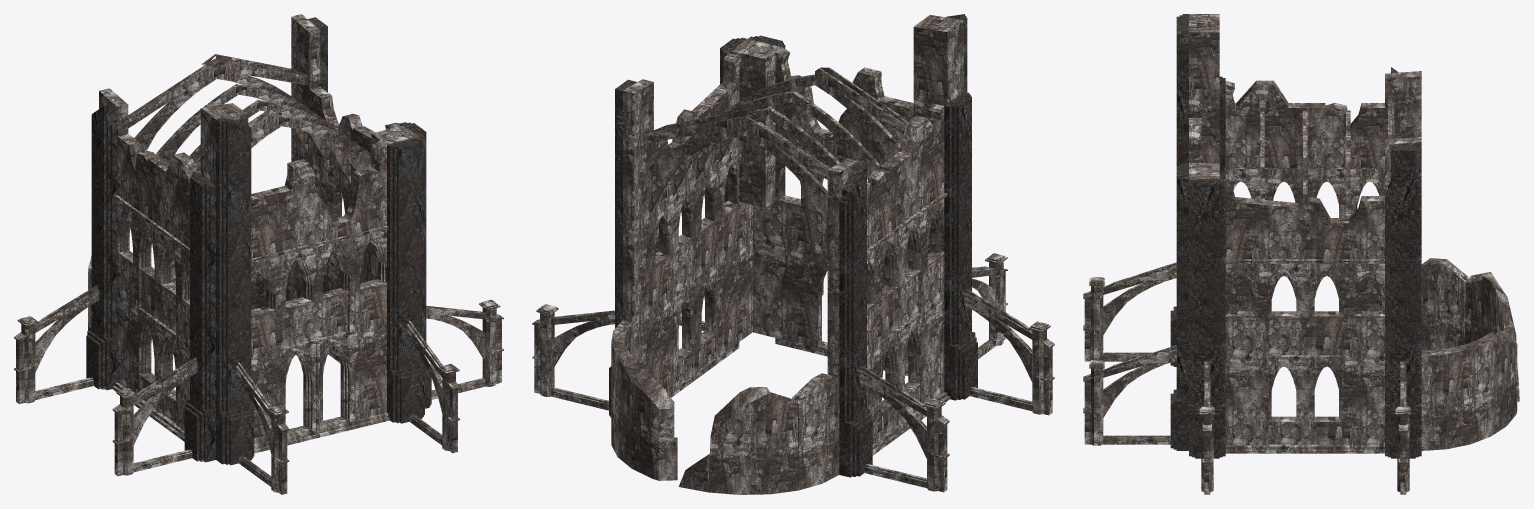
File: buildings_large_ruins3.glb
3 views of the same model, side by side, from view 1: azimuth 30°, elevation 25°; view 2: azimuth 150°, elevation 25°; view 3: azimuth 270°, elevation 25° (orthographic). The views are drawn at different scales.
Parts seen in each view (by area): view 1: ruins3; view 2: ruins3; view 3: ruins3.
Boxes of the visible parts, x1=… form: ruins3: x1=14, y1=14, x2=503, y2=494; ruins3: x1=532, y1=14, x2=1054, y2=494; ruins3: x1=1083, y1=14, x2=1519, y2=494.
Size of the model in its own units: 18.12 by 15.25 by 17.81.
Materials: 2 (2 with a texture image).
